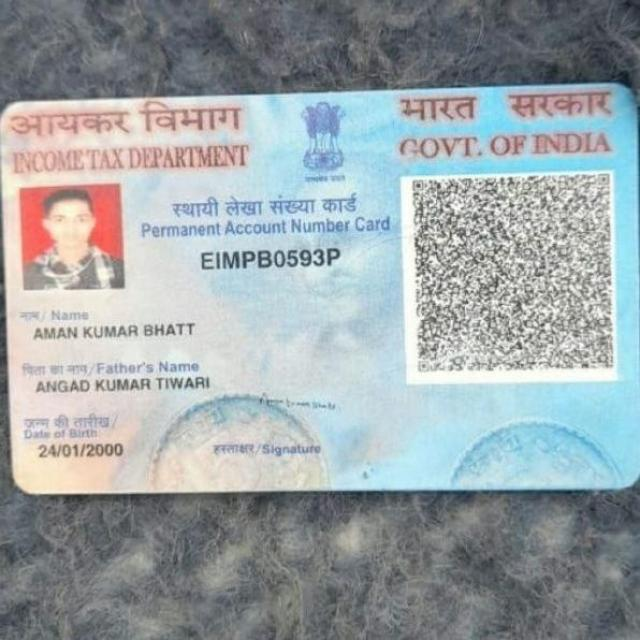pan_card: (1, 84, 632, 497)
